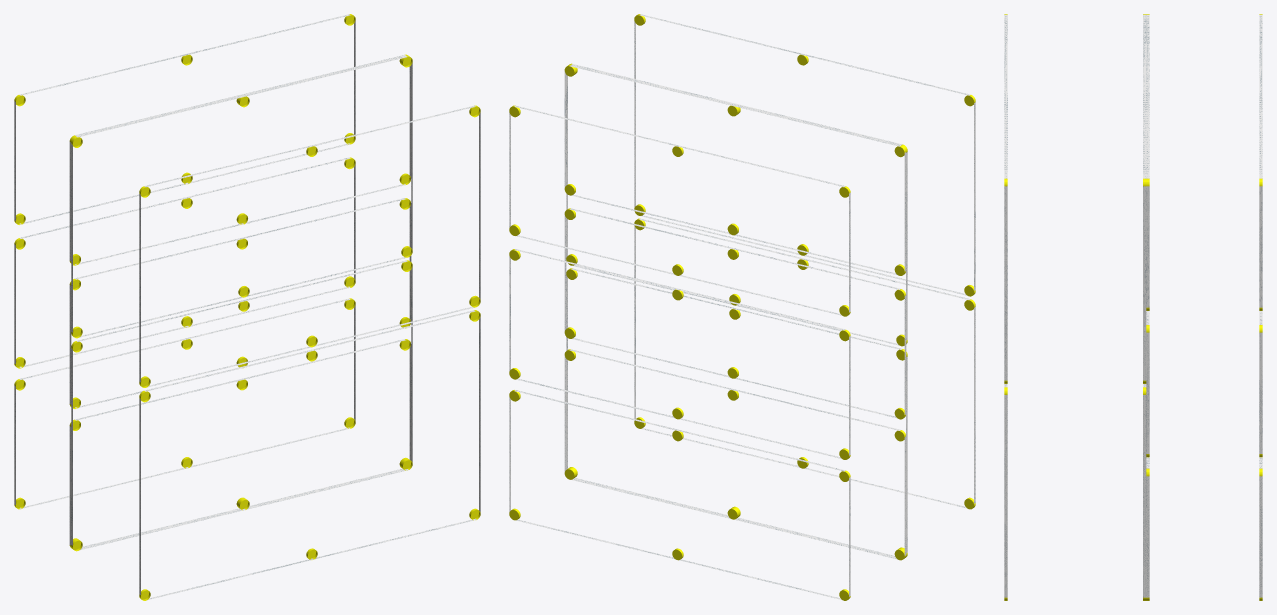
File: 09-SIMULATIONCONVEYOR.dae
3 views of the same model, side by side, from view 1: azimuth 30°, elevation 25°; view 2: azimuth 150°, elevation 25°; view 3: azimuth 270°, elevation 25° (orthographic).
Parts seen in each view (by area): view 1: group_22 (×2), group_18 (×2), group_26 (×2), group_21 (×2), group_25 (×2), group_3, group_9, group_1, group_11, group_4, group_12, group_29 (+2 smaller); view 2: group_18 (×2), group_22 (×2), group_26 (×2), group_21 (×2), group_25 (×2), group_29 (×2), group_1, group_9, group_3, group_2, group_12, group_11 (+2 smaller); view 3: group_22 (×2), group_19 (×2), group_23 (×2), group_27 (×2), group_6, group_14, group_5, group_13, group_1, group_9.
Part boxes in pixels (x1=…): group_22 (×2): x1=19, y1=14, x2=405, y2=136; group_18 (×2): x1=19, y1=298, x2=405, y2=420; group_26 (×2): x1=20, y1=157, x2=405, y2=279; group_21 (×2): x1=19, y1=427, x2=403, y2=548; group_25 (×2): x1=19, y1=143, x2=405, y2=265; group_3: x1=144, y1=310, x2=475, y2=391; group_9: x1=76, y1=56, x2=407, y2=137; group_1: x1=144, y1=105, x2=475, y2=186; group_11: x1=77, y1=260, x2=407, y2=341; group_4: x1=147, y1=518, x2=476, y2=600; group_12: x1=79, y1=469, x2=408, y2=550; group_29: x1=19, y1=286, x2=350, y2=367; group_18 (×2): x1=514, y1=349, x2=900, y2=471; group_22 (×2): x1=514, y1=65, x2=900, y2=186; group_26 (×2): x1=515, y1=208, x2=900, y2=330; group_21 (×2): x1=516, y1=479, x2=897, y2=600; group_25 (×2): x1=516, y1=194, x2=897, y2=315; group_29 (×2): x1=516, y1=338, x2=897, y2=458; group_1: x1=639, y1=14, x2=970, y2=95; group_9: x1=572, y1=64, x2=902, y2=145; group_3: x1=639, y1=218, x2=970, y2=299; group_2: x1=640, y1=215, x2=967, y2=295; group_12: x1=573, y1=478, x2=895, y2=557; group_11: x1=571, y1=268, x2=902, y2=349; group_22 (×2): x1=1146, y1=14, x2=1262, y2=178; group_19 (×2): x1=1146, y1=476, x2=1262, y2=597; group_23 (×2): x1=1146, y1=186, x2=1262, y2=307; group_27 (×2): x1=1146, y1=332, x2=1262, y2=453; group_6: x1=1004, y1=395, x2=1007, y2=597; group_14: x1=1143, y1=395, x2=1146, y2=597; group_5: x1=1004, y1=186, x2=1007, y2=380; group_13: x1=1143, y1=186, x2=1146, y2=380; group_1: x1=1004, y1=14, x2=1007, y2=178; group_9: x1=1143, y1=14, x2=1146, y2=178.
Size of the model in its own units: 68.81 by 44.4 by 80.
